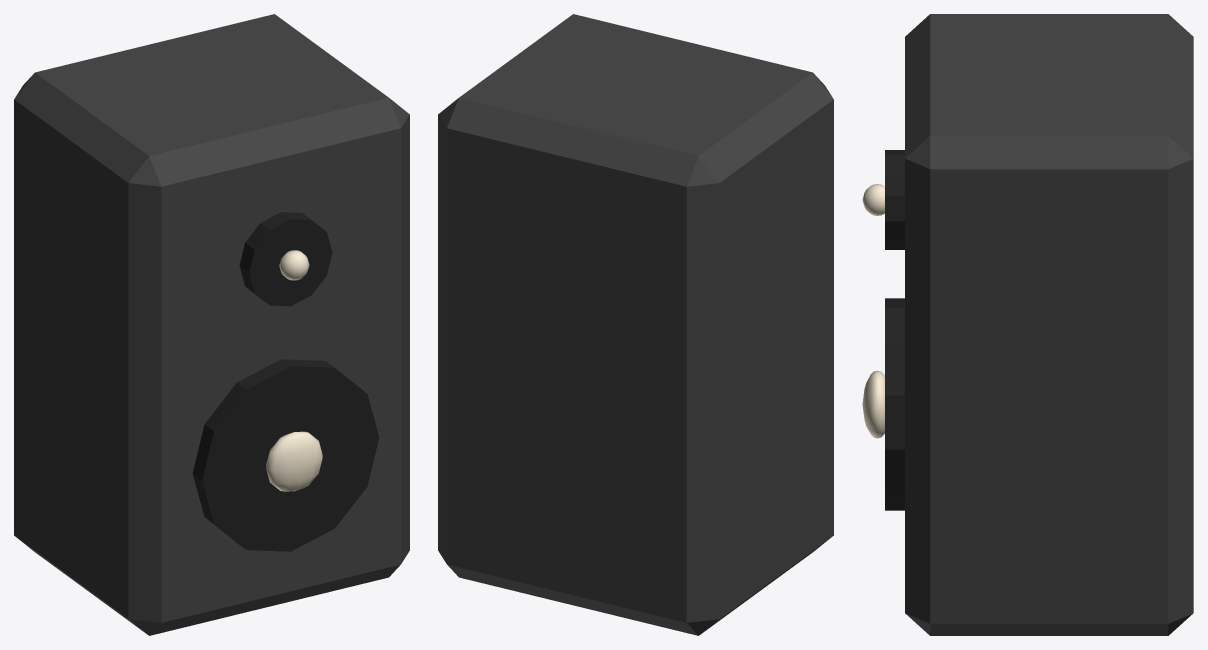
3 renders of one model, left to right at view 1: azimuth 30°, elevation 25°; view 2: azimuth 150°, elevation 25°; view 3: azimuth 270°, elevation 25°, orthographic. The views are drawn at different scales.
Parts seen in each view (by area): view 1: Enclosure, Driver, Driver.001, Driver cap, Driver cap.001; view 2: Enclosure; view 3: Enclosure, Driver, Driver.001, Driver cap, Driver cap.001.
Part boxes in pixels (x1,y1,x2,y2): Enclosure: (14, 14, 409, 635); Driver: (192, 359, 379, 551); Driver.001: (239, 212, 332, 306); Driver cap: (266, 431, 322, 491); Driver cap.001: (279, 250, 309, 280); Enclosure: (438, 14, 833, 635); Enclosure: (905, 14, 1193, 635); Driver: (885, 298, 904, 510); Driver.001: (885, 150, 904, 249); Driver cap: (862, 370, 884, 438); Driver cap.001: (862, 184, 884, 215).
Bounding box in the file's own units: 0.27 × 0.44 × 0.264.
Materials: 1 (1 with a texture image).
